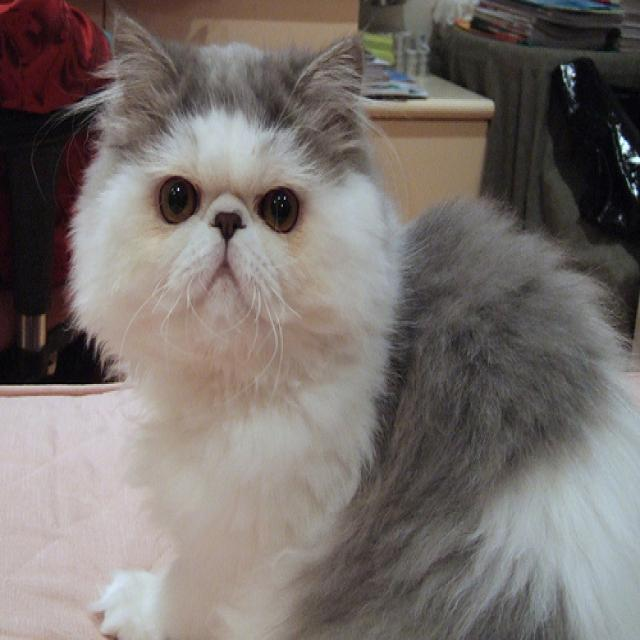Persian: (63, 11, 370, 379)
